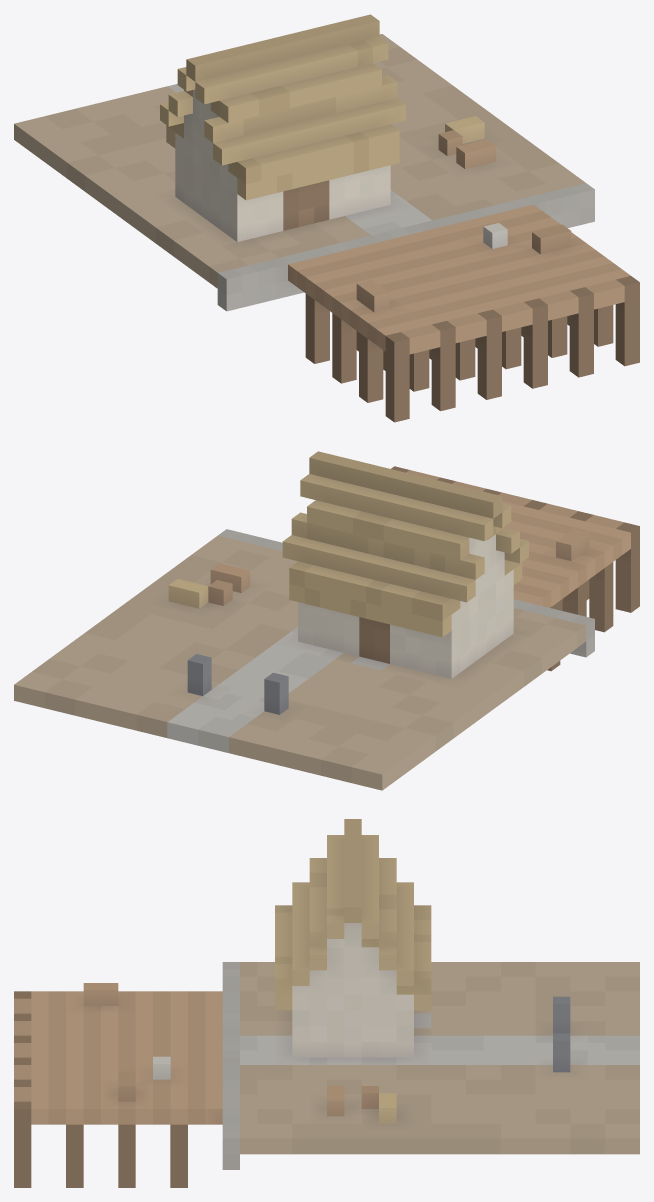
Rendered from trading_post.l1.lite.glb.
3 renders of one model, top to bottom at view 1: azimuth 30°, elevation 25°; view 2: azimuth 150°, elevation 25°; view 3: azimuth 270°, elevation 25°, orthographic.
Visible parts, largest first — view 1: trading_post; view 2: trading_post; view 3: trading_post.
Part boxes in pixels (bbox=[...]): trading_post: bbox=[14, 14, 639, 422]; trading_post: bbox=[14, 451, 639, 790]; trading_post: bbox=[14, 819, 639, 1187].
Bounding box in the file's own units: 6 × 3.75 × 9.
